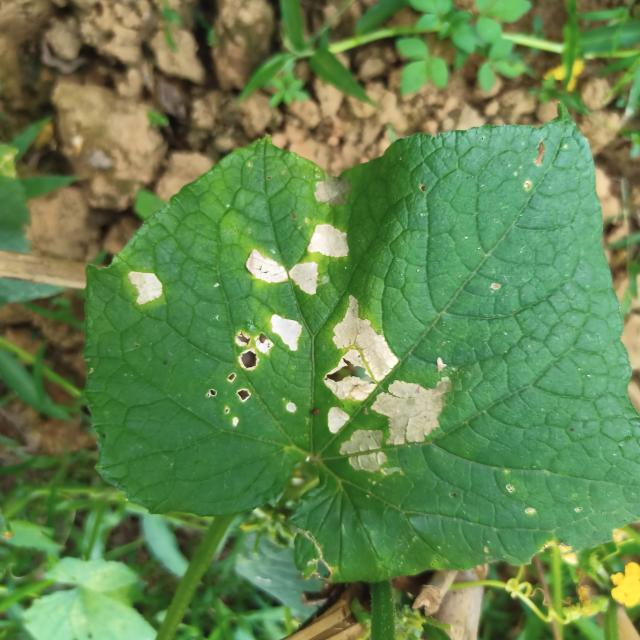disease_cucumber: (318, 288, 453, 487), (204, 306, 304, 435), (237, 222, 367, 300), (122, 266, 172, 311)
